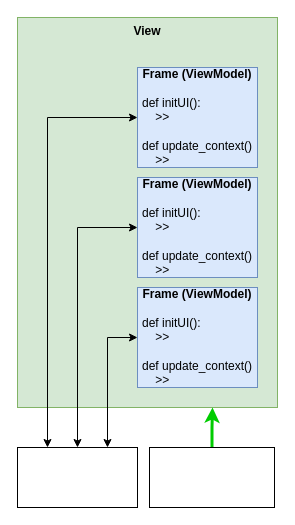
Some shapes in this 295 by 525 pixel diagram are drawn without their labels. The centre of each missing label's shape, as x and y in pixels:
"Context (Model)" goes at point (77, 477).
"tk.Tk()" goes at point (211, 477).
